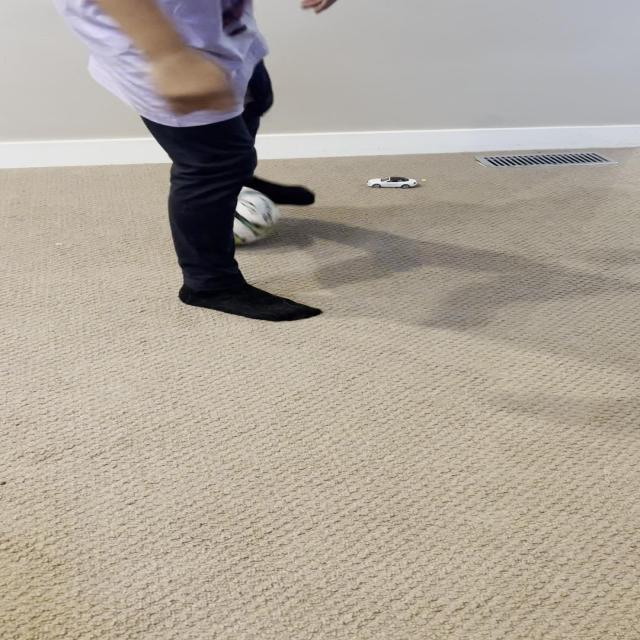Soccer Ball: (175, 185, 280, 246)
